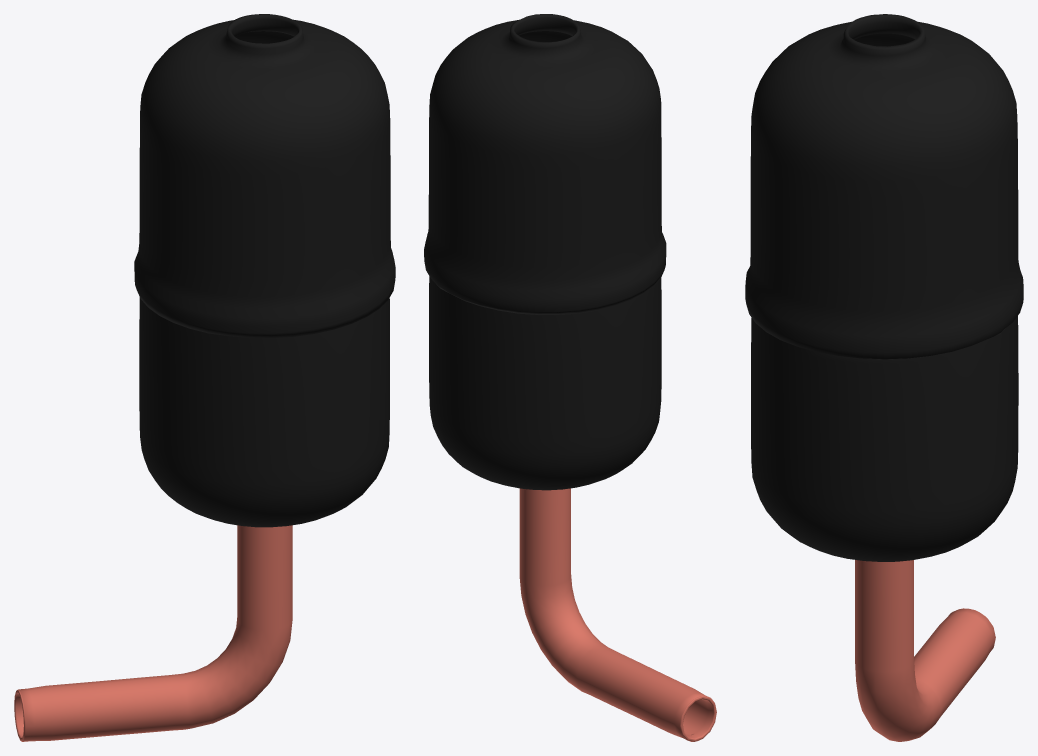
File: tsnk capas.fbx
3 renders of one model, left to right at view 1: azimuth 30°, elevation 25°; view 2: azimuth 150°, elevation 25°; view 3: azimuth 270°, elevation 25°, orthographic. The views are drawn at different scales.
Parts seen in each view (by area): view 1: stitch_result_stitch all.474, stitch_result_stitch all.475; view 2: stitch_result_stitch all.474, stitch_result_stitch all.475; view 3: stitch_result_stitch all.474, stitch_result_stitch all.475.
Boxes of the visible parts, x1=… form: stitch_result_stitch all.474: x1=134, y1=14, x2=395, y2=527; stitch_result_stitch all.475: x1=14, y1=525, x2=292, y2=741; stitch_result_stitch all.474: x1=424, y1=14, x2=666, y2=490; stitch_result_stitch all.475: x1=519, y1=488, x2=716, y2=741; stitch_result_stitch all.474: x1=745, y1=14, x2=1023, y2=561; stitch_result_stitch all.475: x1=855, y1=560, x2=995, y2=741.
Bounding box in the file's own units: 8.54 × 17.3 × 5.92.
